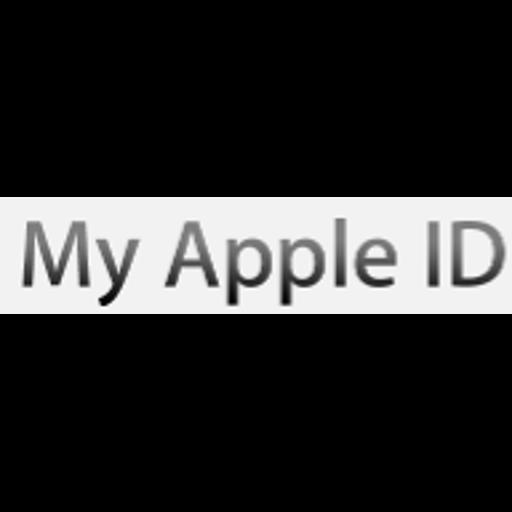Apple: (0, 197, 512, 314)
